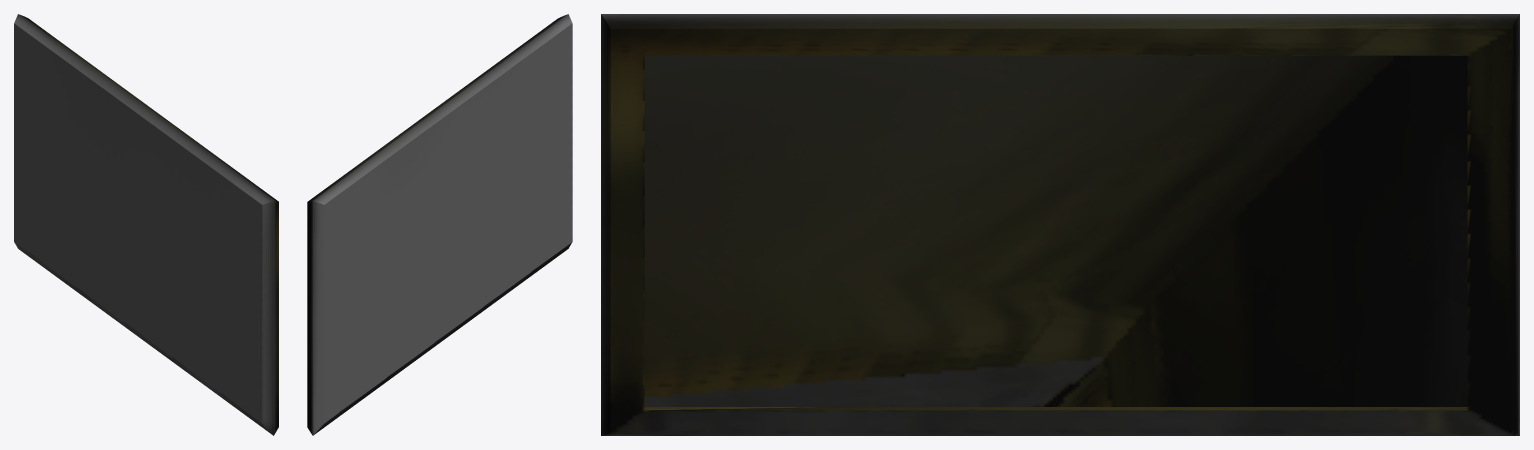
The model's file is tableta.fbx.
The picture shows the model from 3 angles, left to right: view 1: azimuth 30°, elevation 25°; view 2: azimuth 150°, elevation 25°; view 3: azimuth 270°, elevation 25°; orthographic projection. The views are drawn at different scales.
Visible parts, largest first — view 1: Cube; view 2: Cube; view 3: Cube.
Part boxes in pixels (x1,y1,x2,y2): Cube: (14, 14, 278, 435); Cube: (307, 14, 572, 435); Cube: (601, 14, 1519, 435).
Bounding box in the file's own units: 13.61 × 191 × 376.
